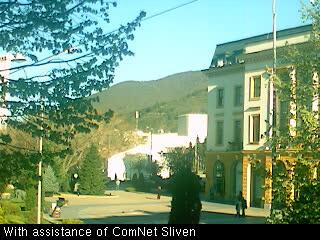person: (239, 197, 247, 218), (236, 196, 242, 216), (157, 186, 163, 199), (115, 179, 120, 190)
